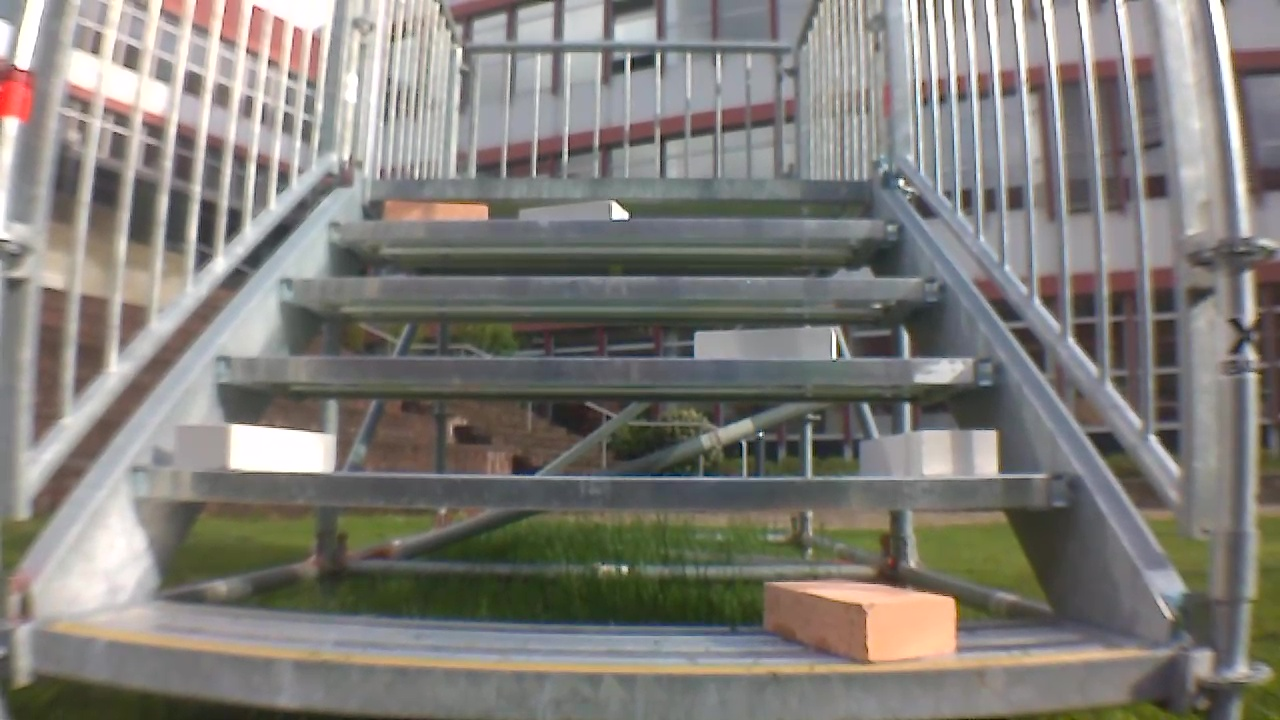brick: (764, 582, 956, 663), (174, 426, 336, 471), (861, 431, 997, 477), (695, 326, 835, 359), (519, 199, 628, 220), (386, 201, 487, 218)
edge: (30, 633, 1167, 718), (129, 469, 1081, 509), (216, 357, 994, 385), (278, 276, 943, 301), (330, 219, 904, 239), (371, 178, 868, 199)
stairs: (4, 5, 1263, 716)
steps: (19, 171, 1181, 716)
